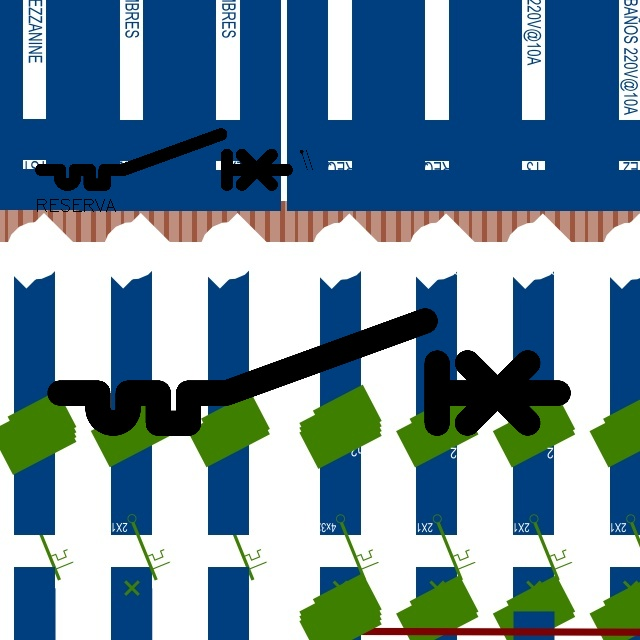interruptor_termomagnetico: (47, 308, 571, 436), (35, 128, 293, 191)
